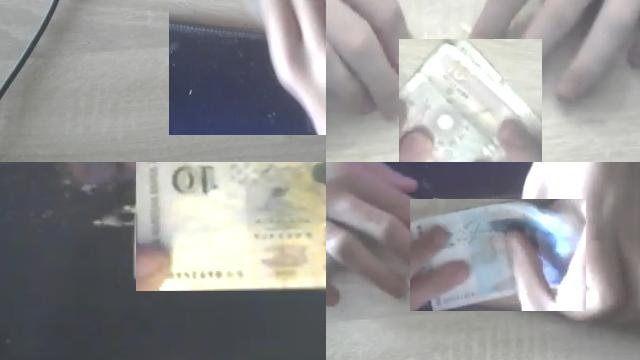10leva: (137, 162, 326, 291), (399, 39, 542, 162)
20leva: (410, 199, 586, 311)
